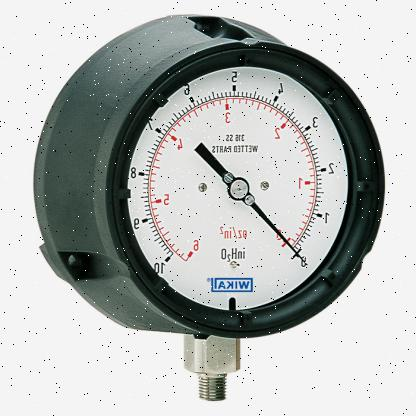needle: (249, 201, 308, 266)
